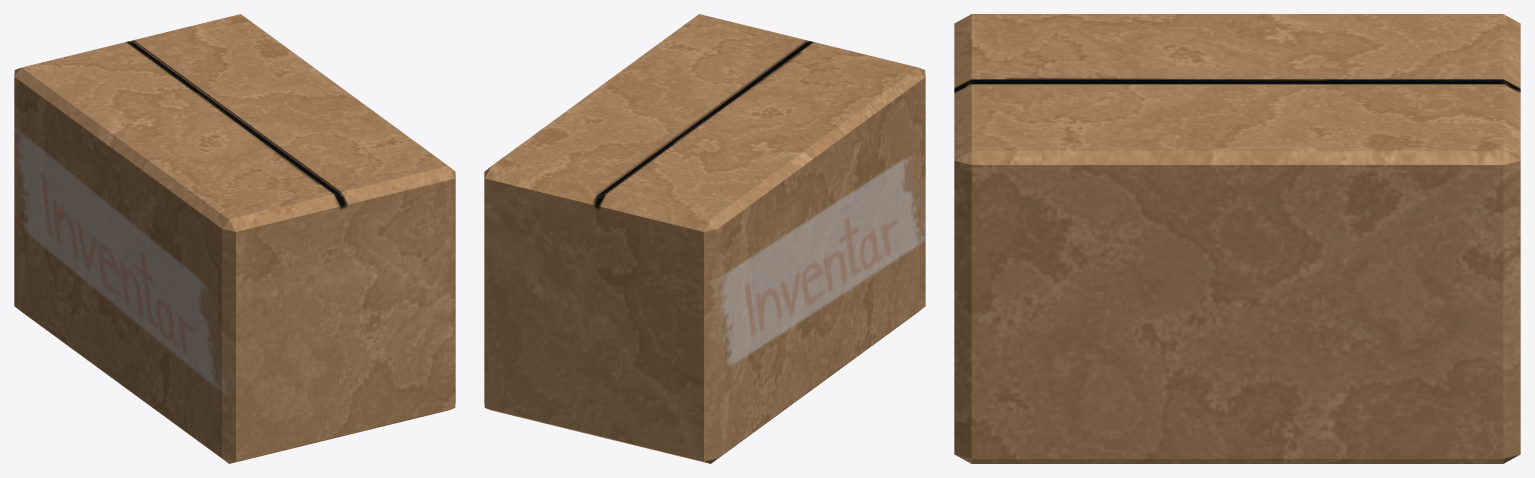
Rendered from mdl_Karton.fbx.
3 renders of one model, left to right at view 1: azimuth 30°, elevation 25°; view 2: azimuth 150°, elevation 25°; view 3: azimuth 270°, elevation 25°, orthographic. The views are drawn at different scales.
Visible parts, largest first — view 1: Karton.001; view 2: Karton.001; view 3: Karton.001.
Part boxes in pixels (x1,y1,x2,y2): Karton.001: [14, 14, 455, 463]; Karton.001: [484, 14, 925, 463]; Karton.001: [954, 14, 1520, 463].
Bounding box in the file's own units: 52.96 × 52.96 × 86.87.
